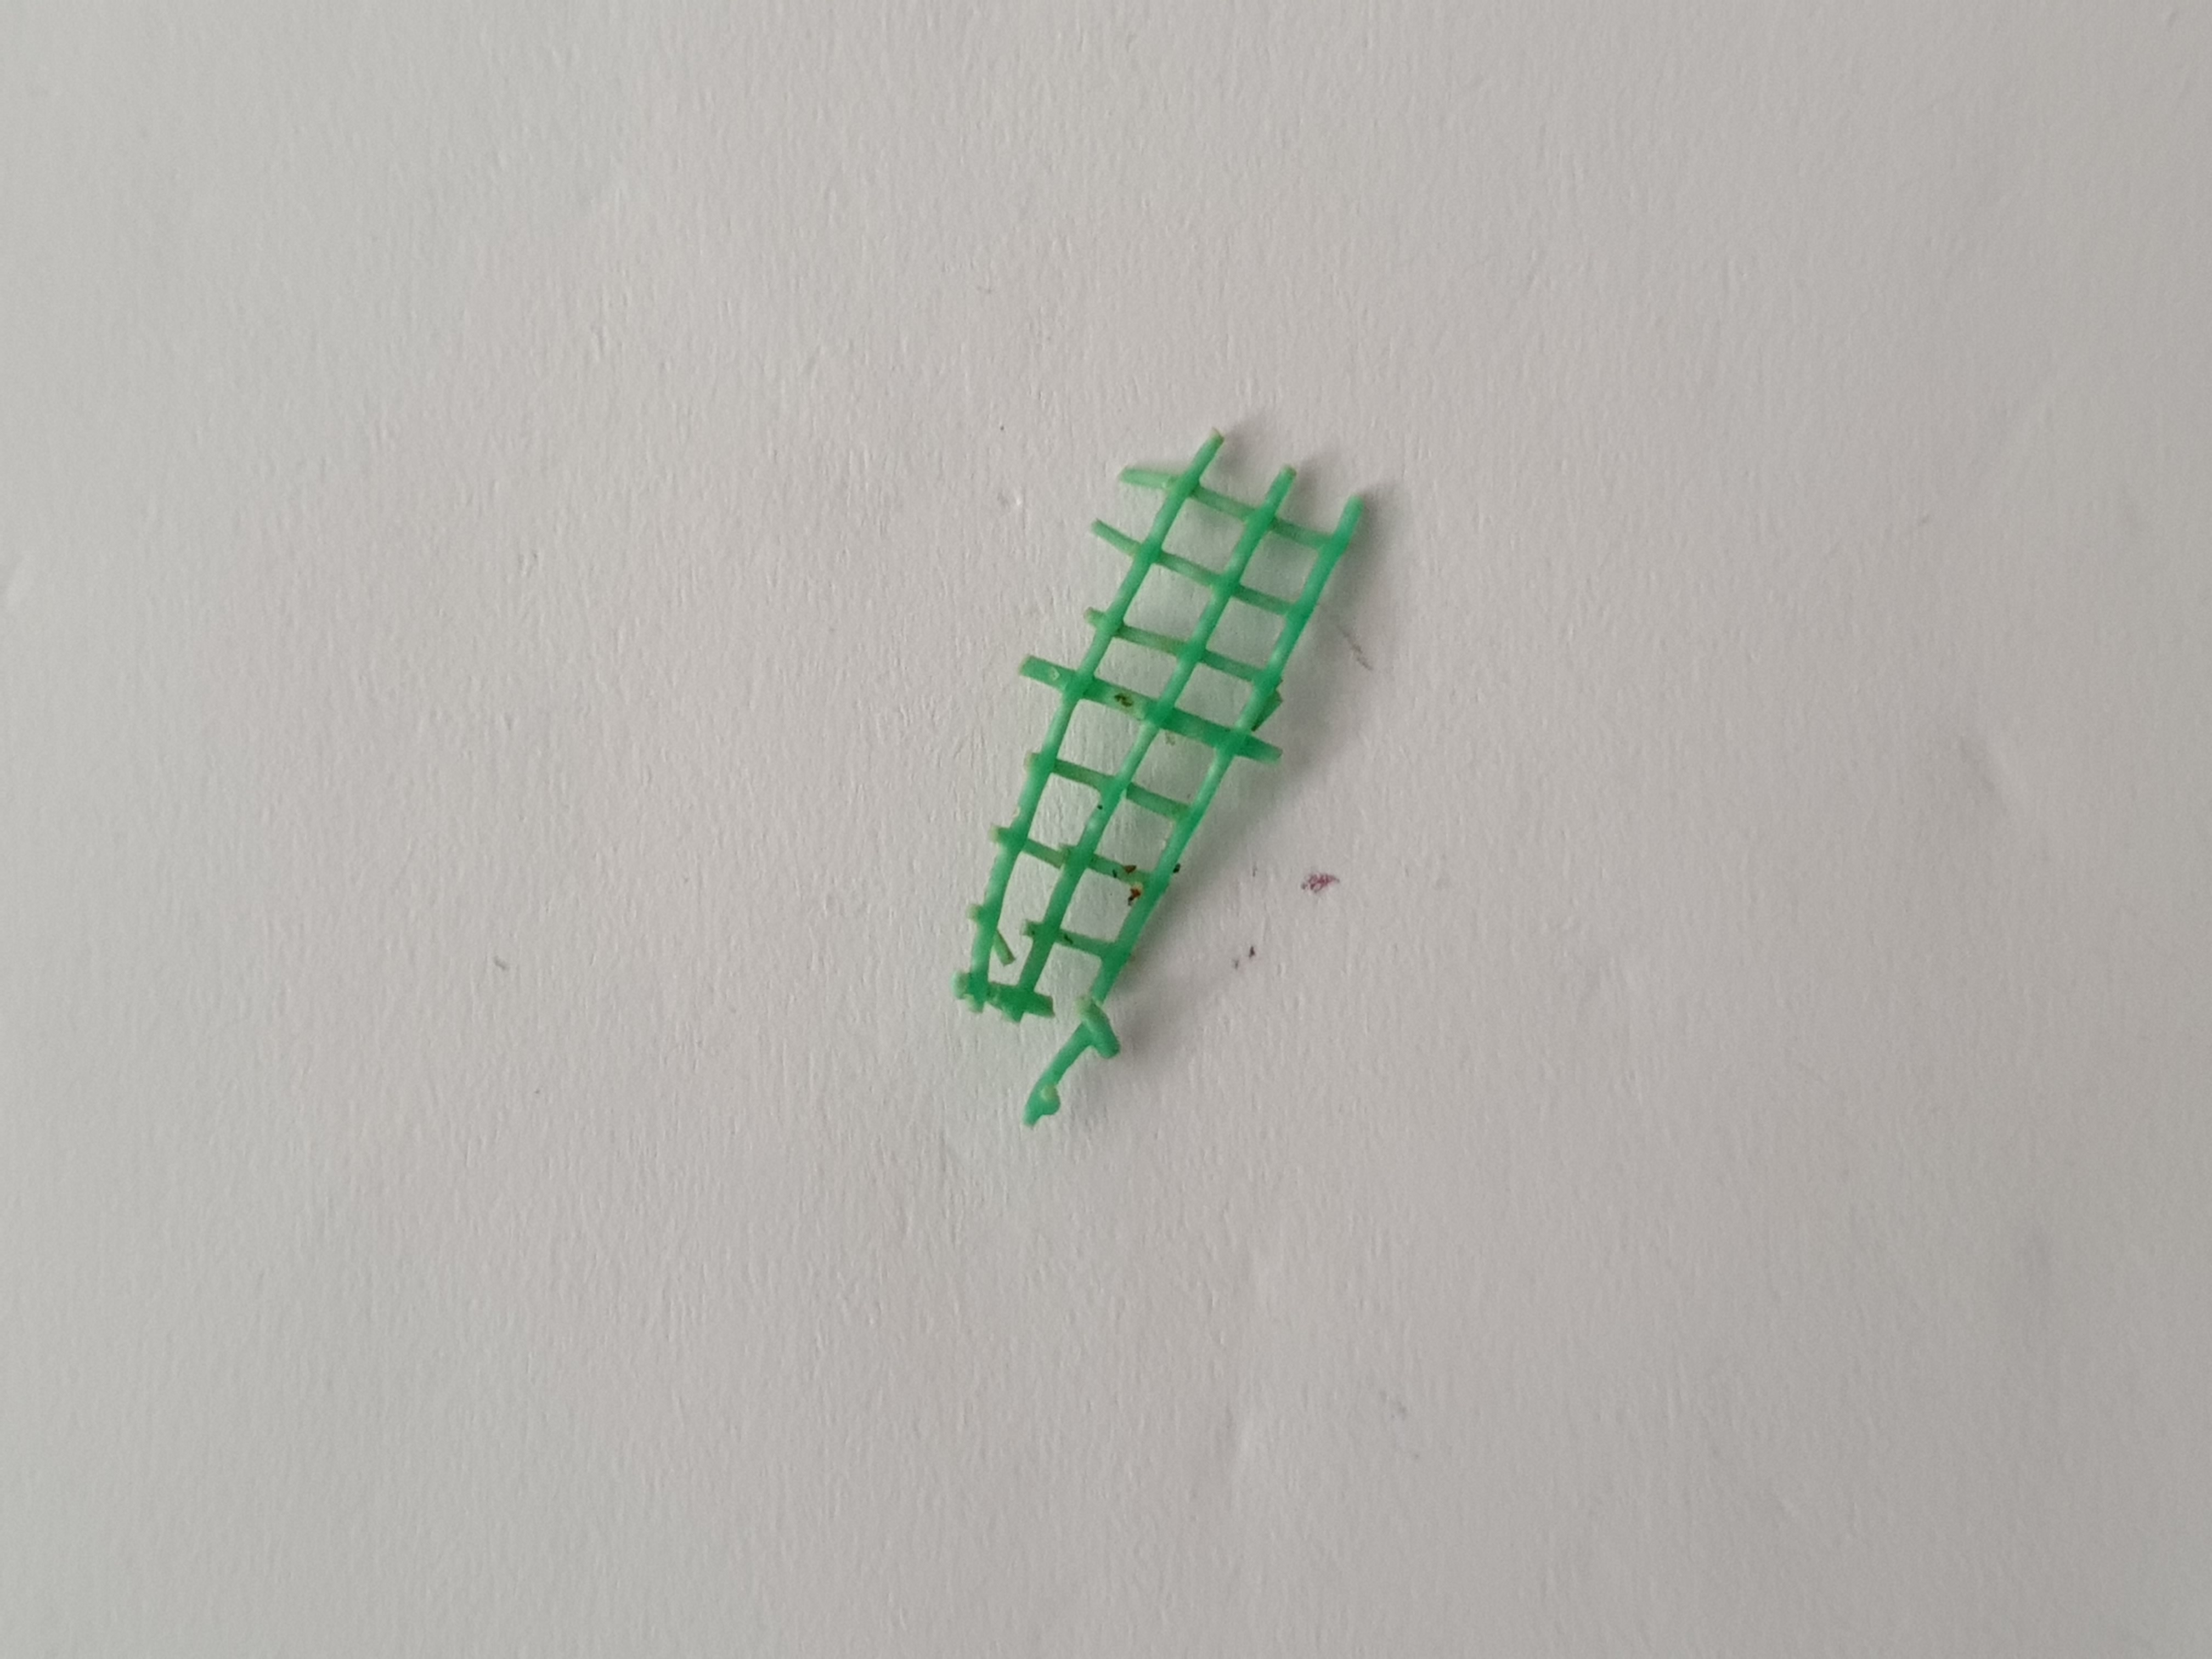plastic: (925, 425, 1407, 1134)
